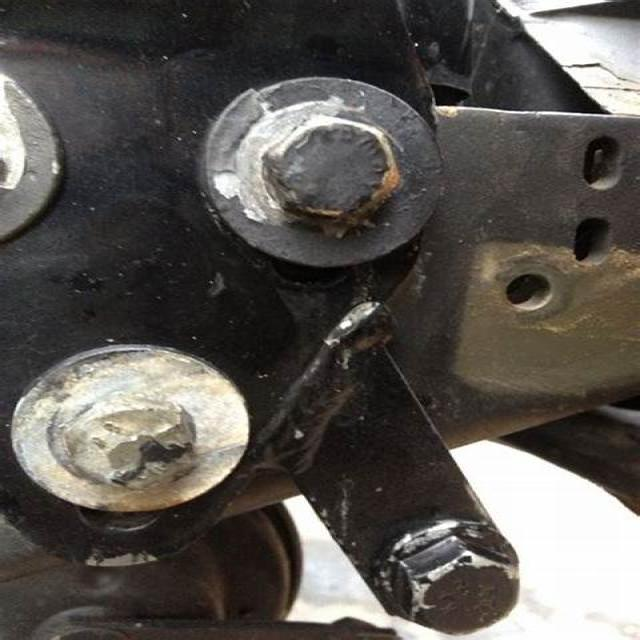bolt head: (266, 114, 402, 225), (56, 393, 197, 493), (395, 536, 520, 636)
